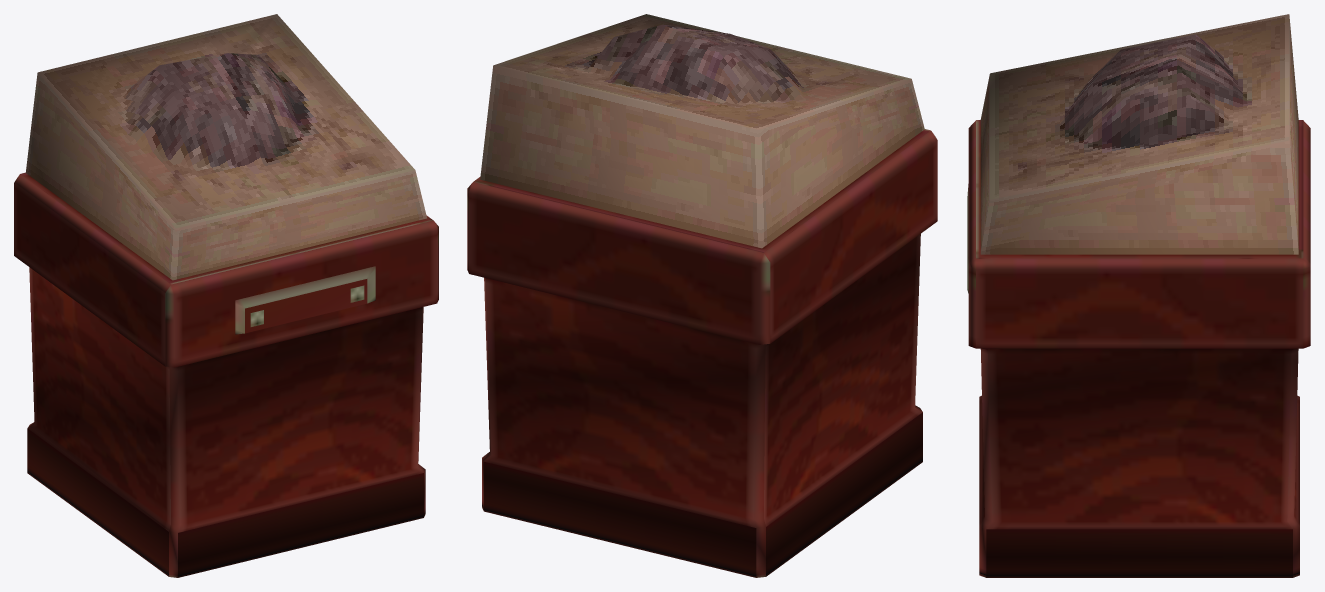
The model's file is int_fos_droop.dae.
The picture shows the model from 3 angles, left to right: view 1: azimuth 30°, elevation 25°; view 2: azimuth 150°, elevation 25°; view 3: azimuth 270°, elevation 25°; orthographic projection. The views are drawn at different scales.
Visible parts, largest first — view 1: int_fos_droop; view 2: int_fos_droop; view 3: int_fos_droop.
Boxes of the visible parts, <box> form: int_fos_droop: <box>14,14,438,577</box>; int_fos_droop: <box>467,14,937,577</box>; int_fos_droop: <box>967,14,1310,577</box>.
Size of the model in its own units: 27.04 by 39.99 by 27.23.
Materials: 3 (3 with a texture image).
